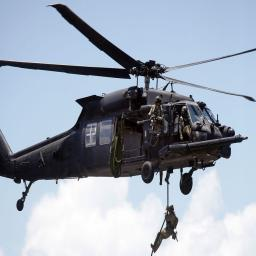helicopter: (1, 12, 251, 213)
